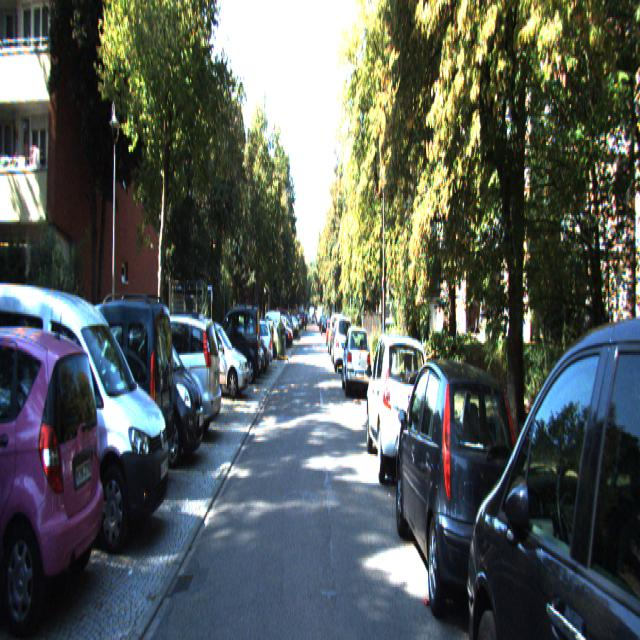Car: (464, 264, 640, 638), (0, 268, 175, 546), (391, 329, 529, 618), (0, 316, 105, 636), (38, 290, 176, 502), (94, 320, 206, 474), (109, 312, 221, 450), (365, 326, 434, 493), (180, 319, 250, 405), (207, 304, 260, 387), (342, 324, 372, 403), (333, 317, 353, 376)
